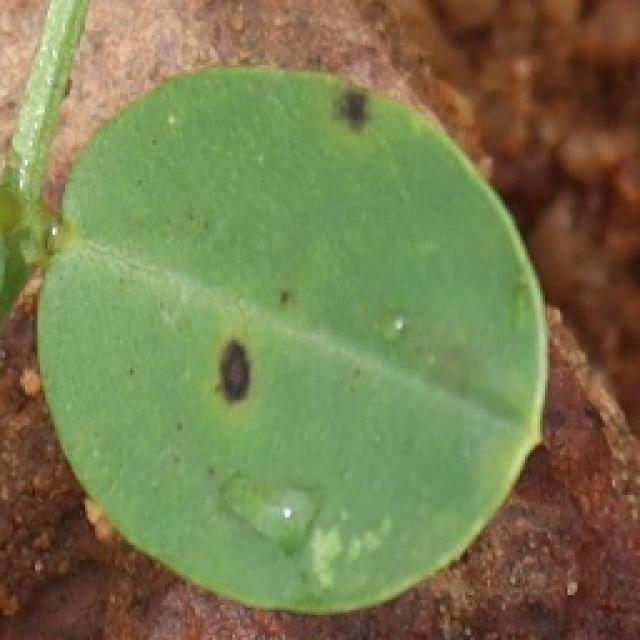Yellowish: (164, 284, 323, 432), (294, 50, 422, 194)
